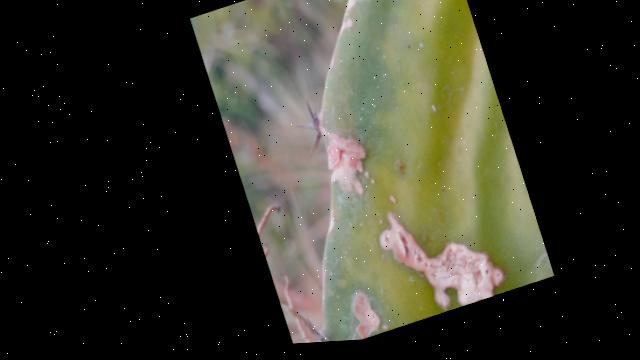stemcanker: (375, 209, 509, 313), (323, 134, 370, 199)
